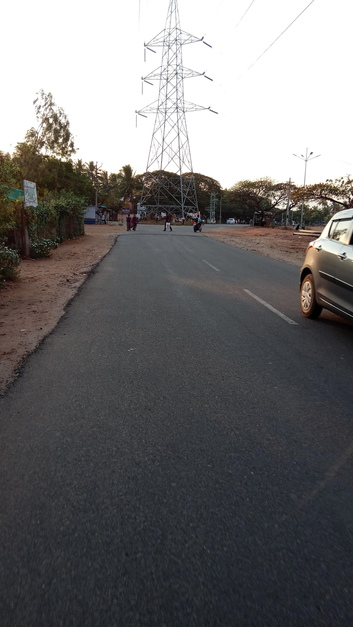bump: (114, 230, 214, 240)
